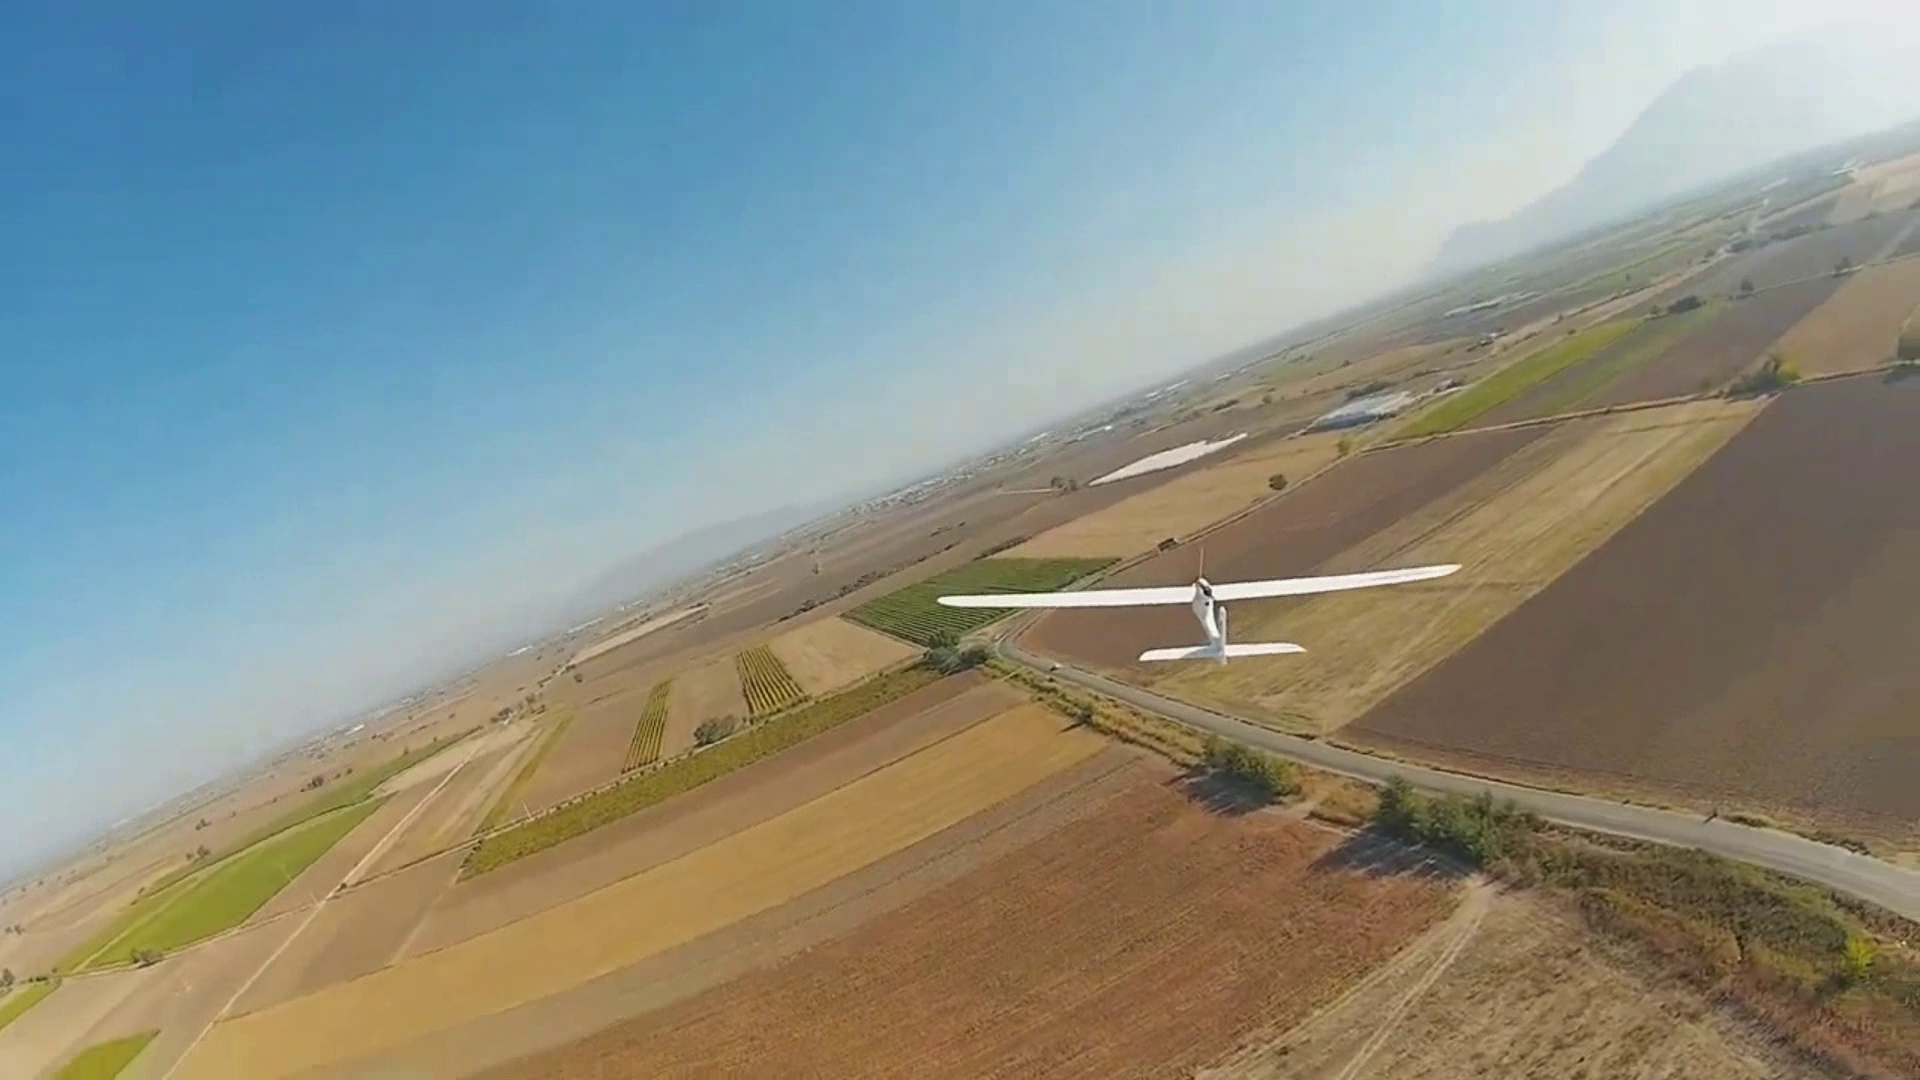airplane: (11, 104, 1917, 735)
